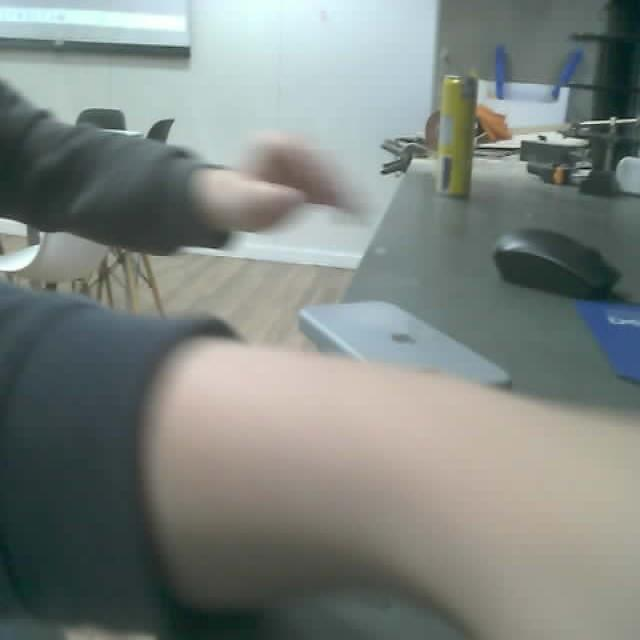phone: (300, 298, 512, 386)
